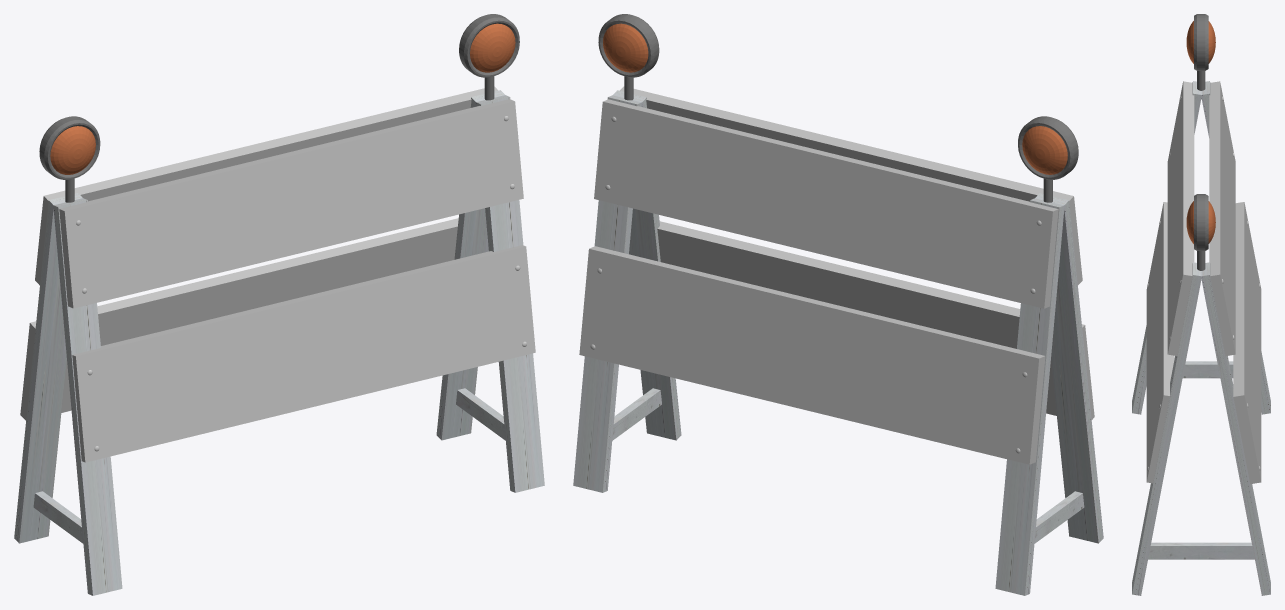
3 views of the same model, side by side, from view 1: azimuth 30°, elevation 25°; view 2: azimuth 150°, elevation 25°; view 3: azimuth 270°, elevation 25° (orthographic). The views are drawn at different scales.
Parts seen in each view (by area): view 1: Cube.001; view 2: Cube.001; view 3: Cube.001.
Part boxes in pixels (x1,y1,x2,y2): Cube.001: (14,14,544,595); Cube.001: (573,14,1103,595); Cube.001: (1132,14,1270,595).
Size of the model in its own units: 151 by 135 by 43.29.
